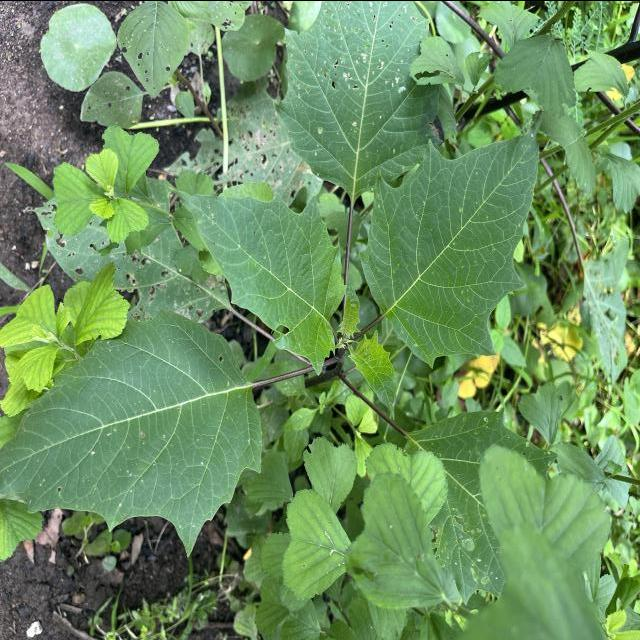Datura metal linn: (0, 306, 265, 560), (358, 108, 544, 370), (166, 182, 351, 378)
